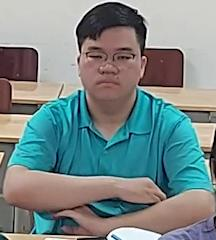Looking_Forward: (6, 4, 208, 230)
